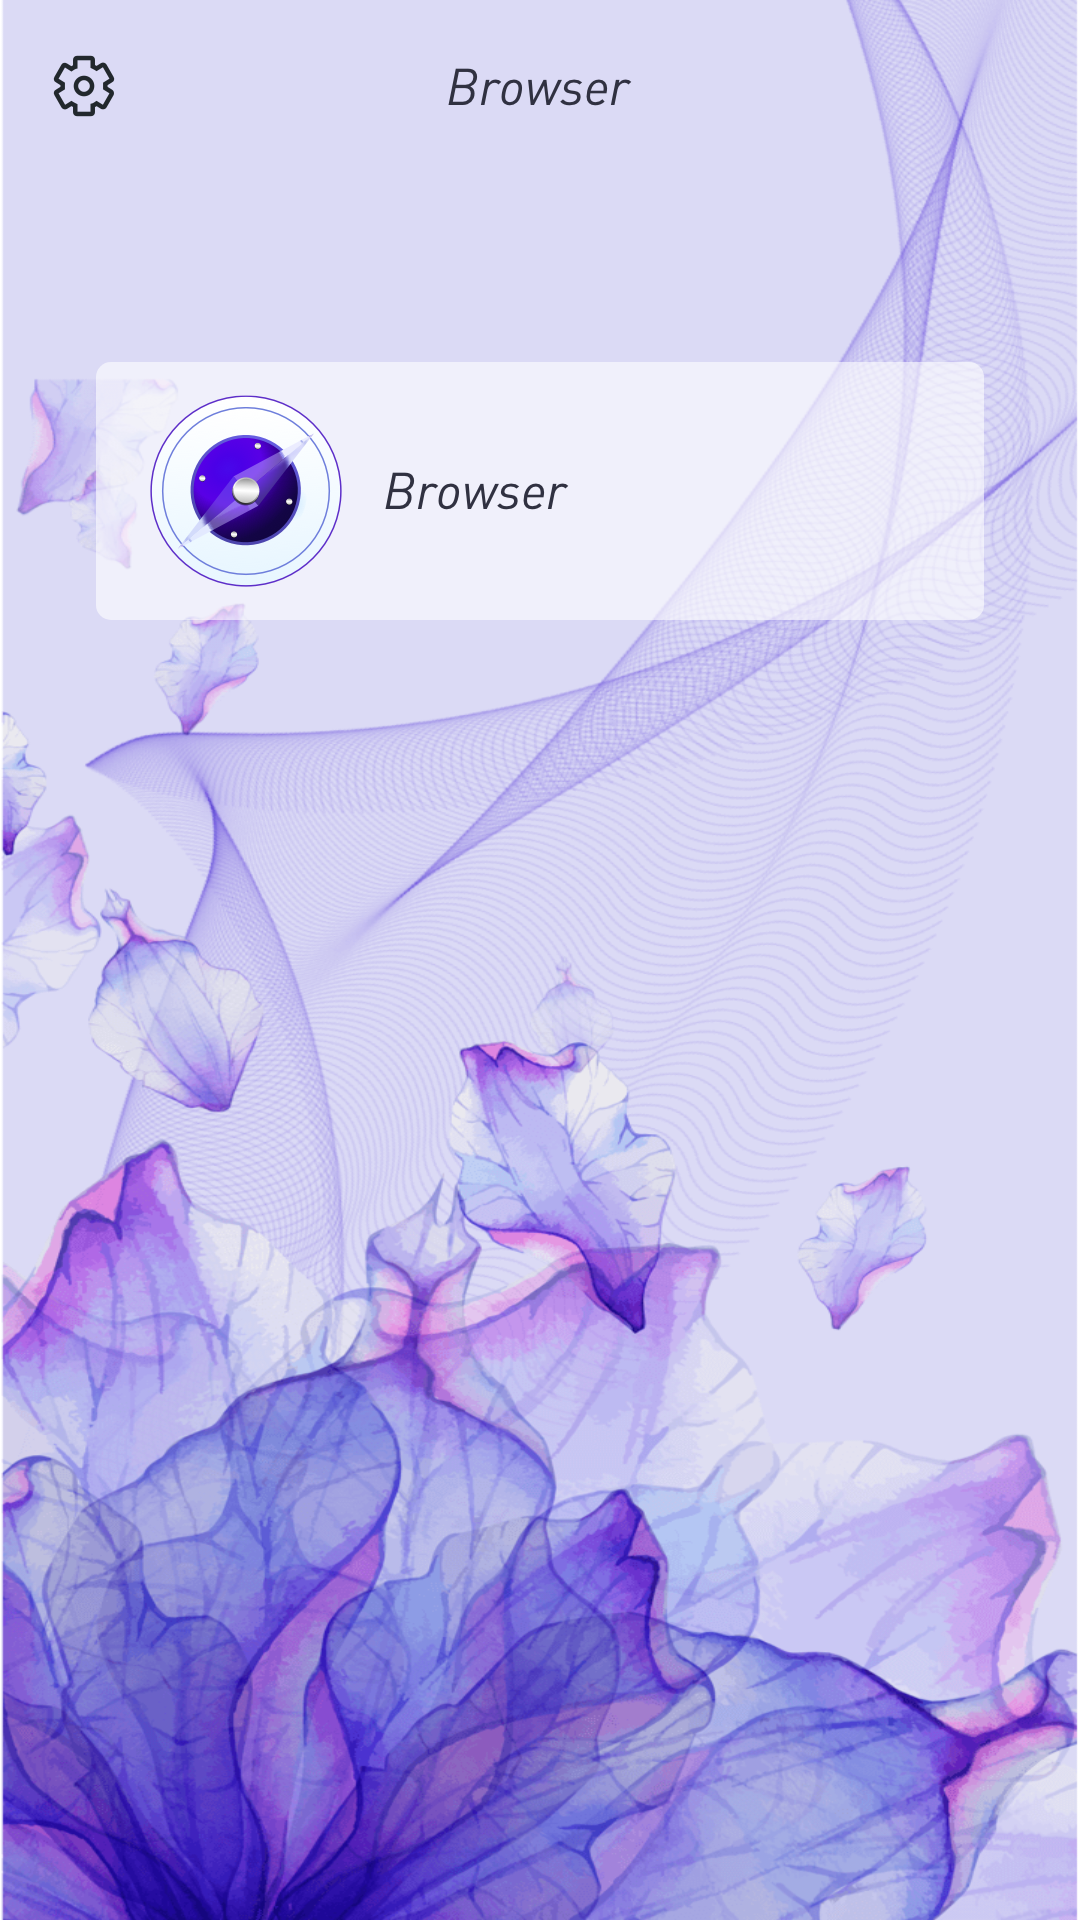

Where icons sit on this 1080×1920 app screen, as [left=x1, top=y1, right=x2, bottom=y2]:
home browse: [left=150, top=395, right=342, bottom=587]
set: [left=54, top=55, right=114, bottom=117]
